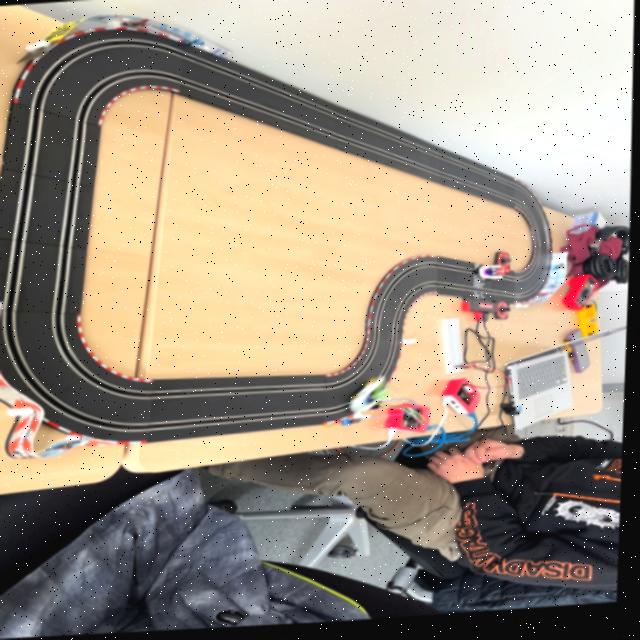mario: (478, 268, 514, 288)
yoshi: (347, 378, 400, 419)
